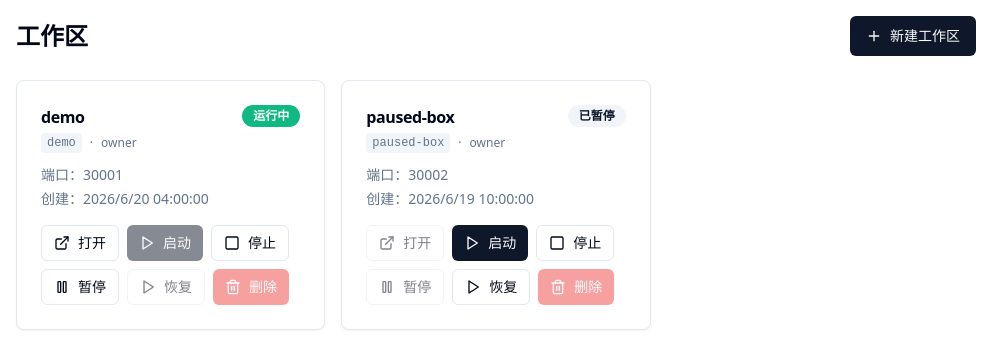
Test case: Workspaces 列表 › 运行中工作区可停止（乐观：状态切 stopped）
Expected: the element with test id "workspace-card-demo" is shown, left=16, top=80, right=325, bottom=330
Click the button with test id "ws-stop-demo" at (250, 243), box left=211, top=225, right=289, bottom=261
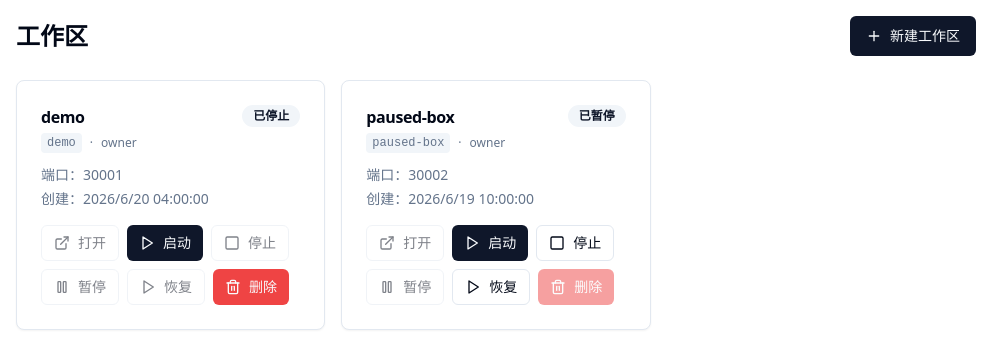
Expected: the element with test id "workspace-card-demo" shows "已停止", left=253, top=107, right=289, bottom=124
